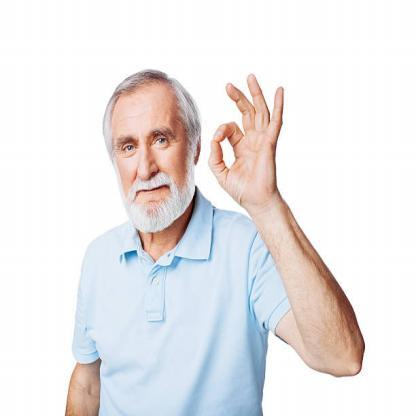ok: (207, 71, 286, 208)
